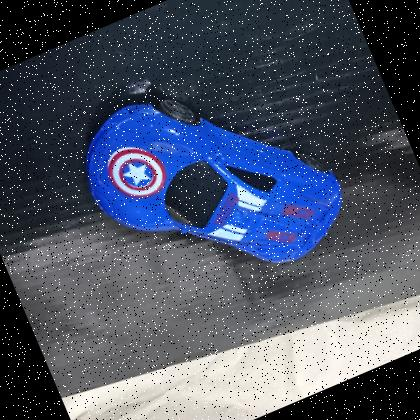Car: (54, 26, 368, 333)
